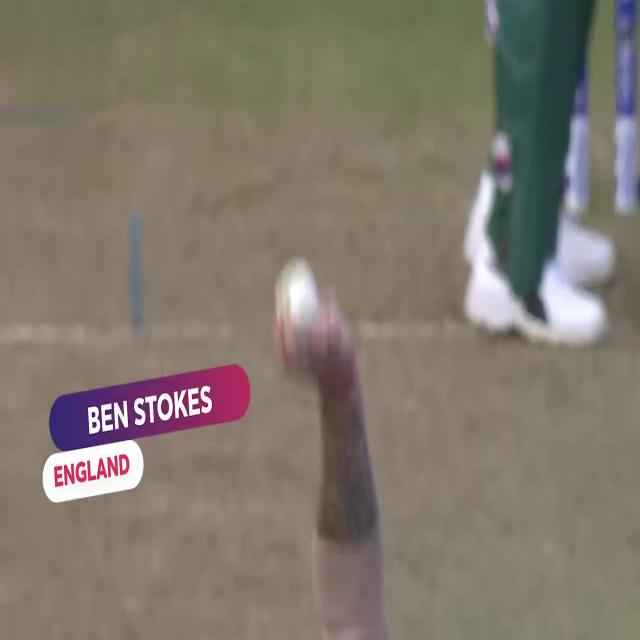ball: (265, 244, 325, 340)
